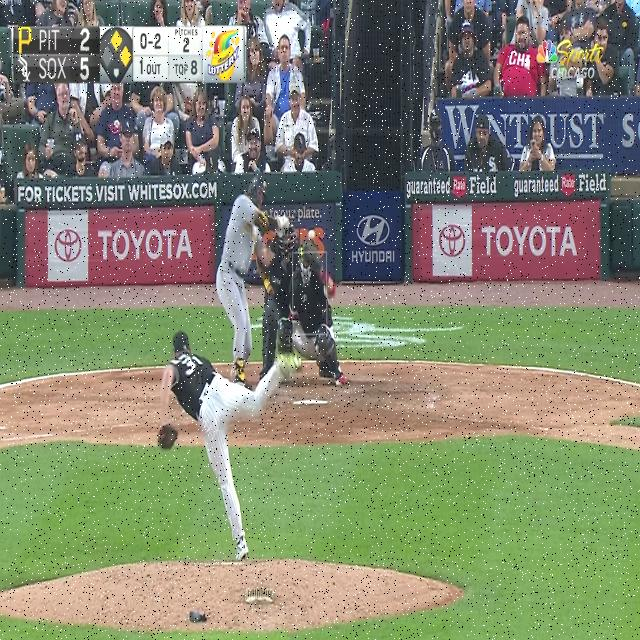baseball: (308, 229, 315, 241)
